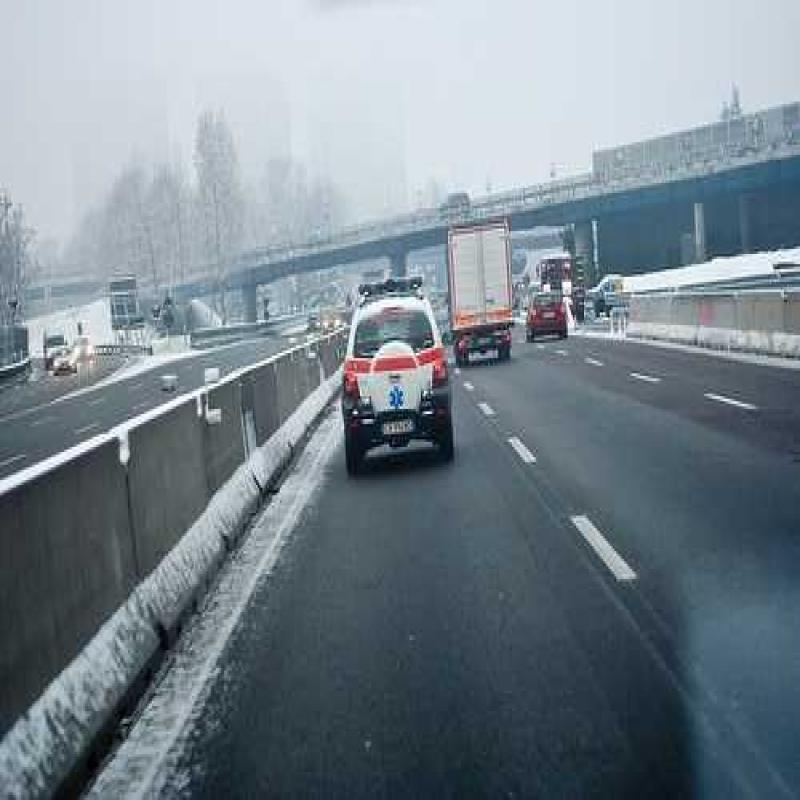AmbulanceSiren: (349, 260, 430, 318)
